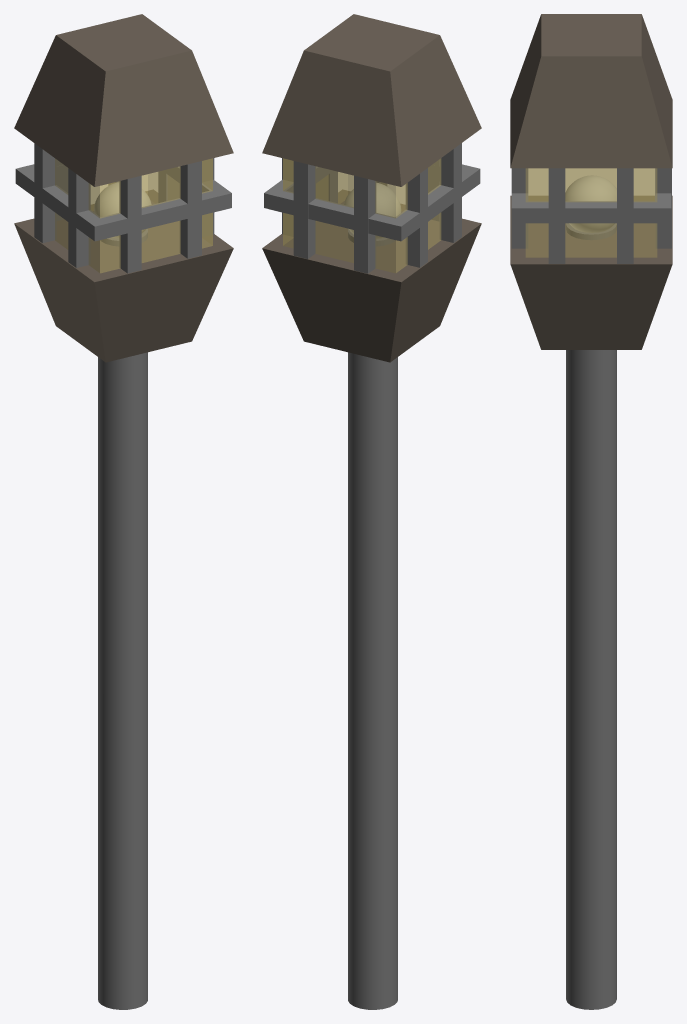
Rendered from streetLamp.fbx.
3 views of the same model, side by side, from view 1: azimuth 30°, elevation 25°; view 2: azimuth 150°, elevation 25°; view 3: azimuth 270°, elevation 25° (orthographic).
Visible parts, largest first — view 1: pCylinder1, pCube4, pCube5, pCube1, pCube14, pCube11, pCube10, pCube16, pCube12, pCube13, pSphere1, pCube15 (+2 smaller); view 2: pCylinder1, pCube4, pCube5, pCube1, pCube17, pCube8, pCube9, pCube14, pCube12, pCube13, pSphere1, pCube6 (+2 smaller); view 3: pCylinder1, pCube4, pCube5, pCube1, pCube15, pCube6, pCube7, pSphere1, pCube10, pCube8.
Boxes of the visible parts, x1,y1,x2,y2 form: pCylinder1: (98,229,147,1009); pCube4: (14,14,233,186); pCube5: (14,190,233,362); pCube1: (55,158,212,273); pCube14: (15,166,108,241); pCube11: (119,175,141,273); pCube10: (179,161,201,258); pCube16: (92,190,226,237); pCube12: (68,168,90,267); pCube13: (34,143,56,243); pSphere1: (94,182,151,238); pCube15: (163,166,231,211); pCylinder1: (348,229,397,1009); pCube4: (262,14,481,186); pCube5: (262,190,481,362); pCube1: (283,158,441,273); pCube17: (268,189,404,240); pCube8: (293,161,315,258); pCube9: (354,175,376,273); pCube14: (387,165,480,241); pCube12: (439,143,461,242); pCube13: (405,168,427,267); pSphere1: (344,183,401,238); pCube6: (316,171,337,203); pCylinder1: (566,223,616,1009); pCube4: (510,14,672,168); pCube5: (510,195,672,349); pCube1: (525,168,657,257); pCube15: (511,201,671,223); pCube6: (548,168,565,263); pCube7: (617,168,633,263); pSphere1: (565,175,616,232); pCube10: (511,168,528,248); pCube8: (655,168,671,248).
Size of the model in its own units: 1.09 by 7.18 by 1.09.
